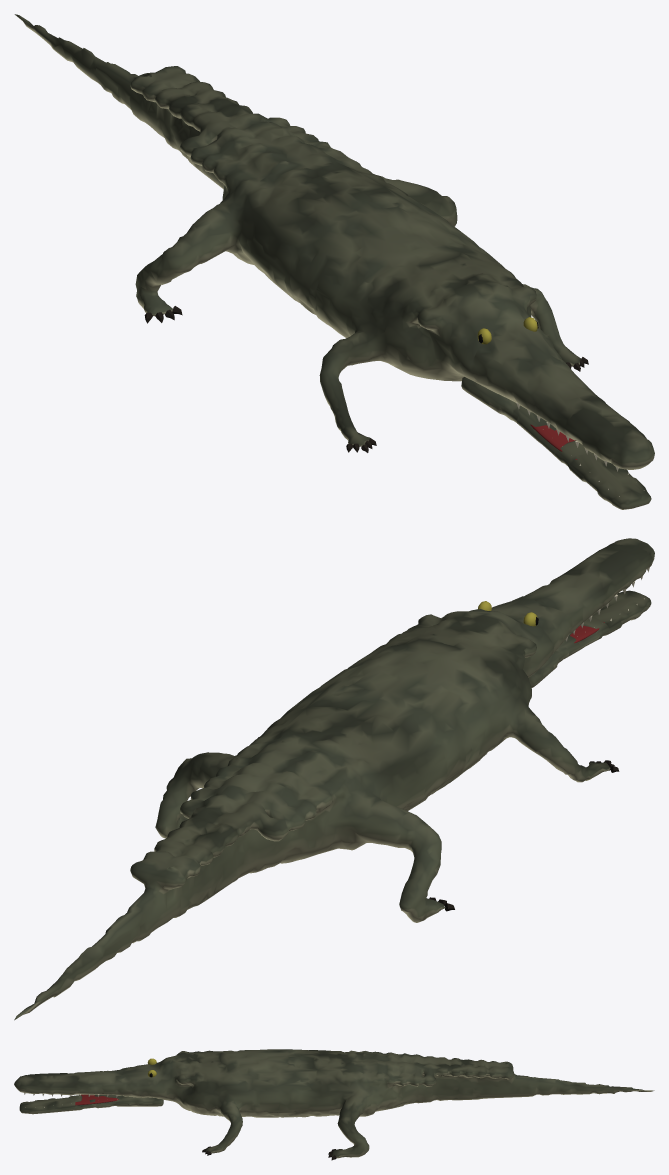
The model's file is Machimosaurus.fbx.
3 renders of one model, top to bottom at view 1: azimuth 30°, elevation 25°; view 2: azimuth 150°, elevation 25°; view 3: azimuth 270°, elevation 25°, orthographic. The views are drawn at different scales.
Visible parts, largest first — view 1: Machimosaurus; view 2: Machimosaurus; view 3: Machimosaurus.
Boxes of the visible parts, x1,y1,x2,y2 form: Machimosaurus: (14,14,654,509); Machimosaurus: (14,538,654,1020); Machimosaurus: (14,1049,654,1160).
Size of the model in its own units: 0.5864 by 0.2398 by 2.07.
